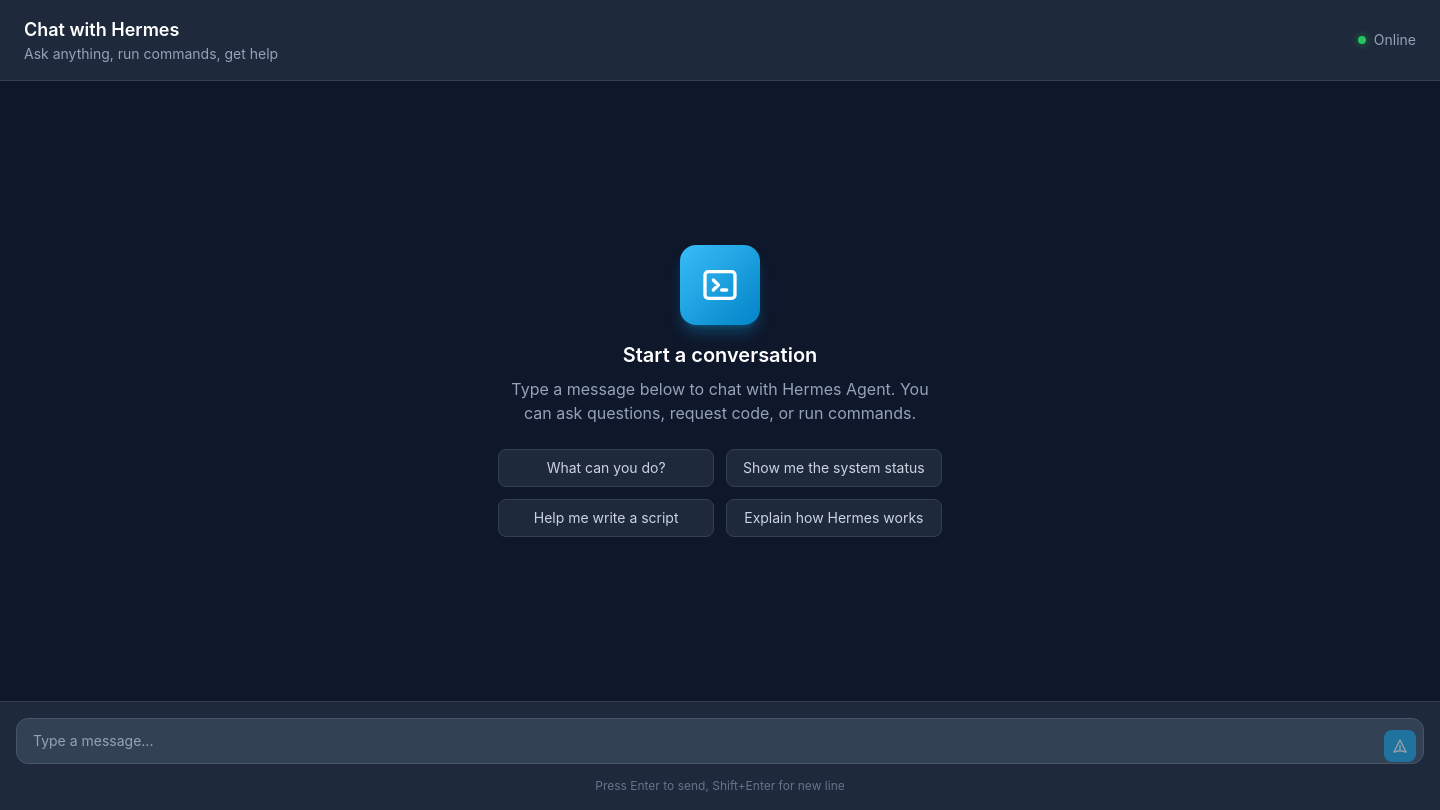
ChatView › disables send button when loading
Type "Test" into the text box with placeholder "Type a message..." at (720, 741), box [16, 718, 1424, 764]
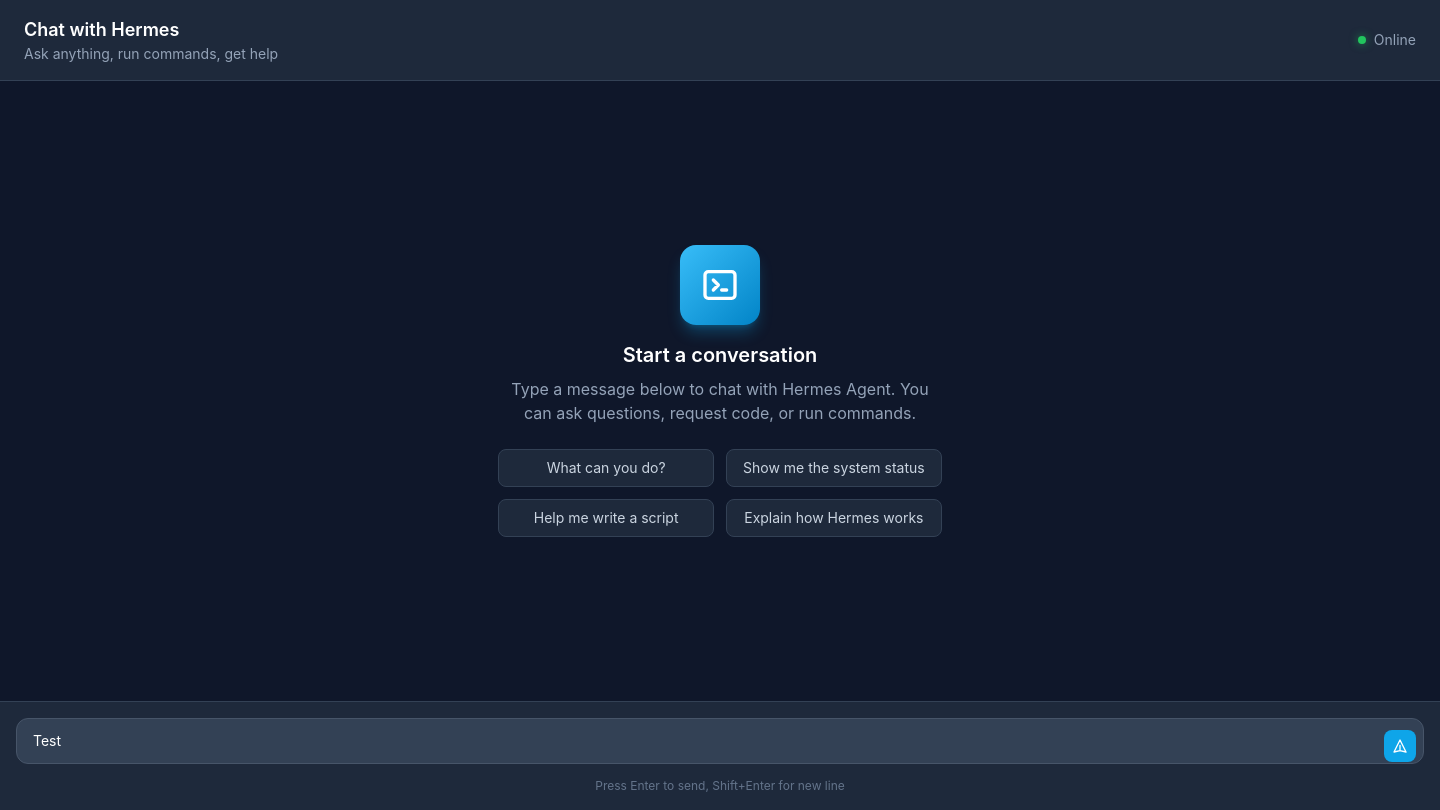
Press Enter in the text box with placeholder "Type a message...", box [16, 718, 1424, 764]
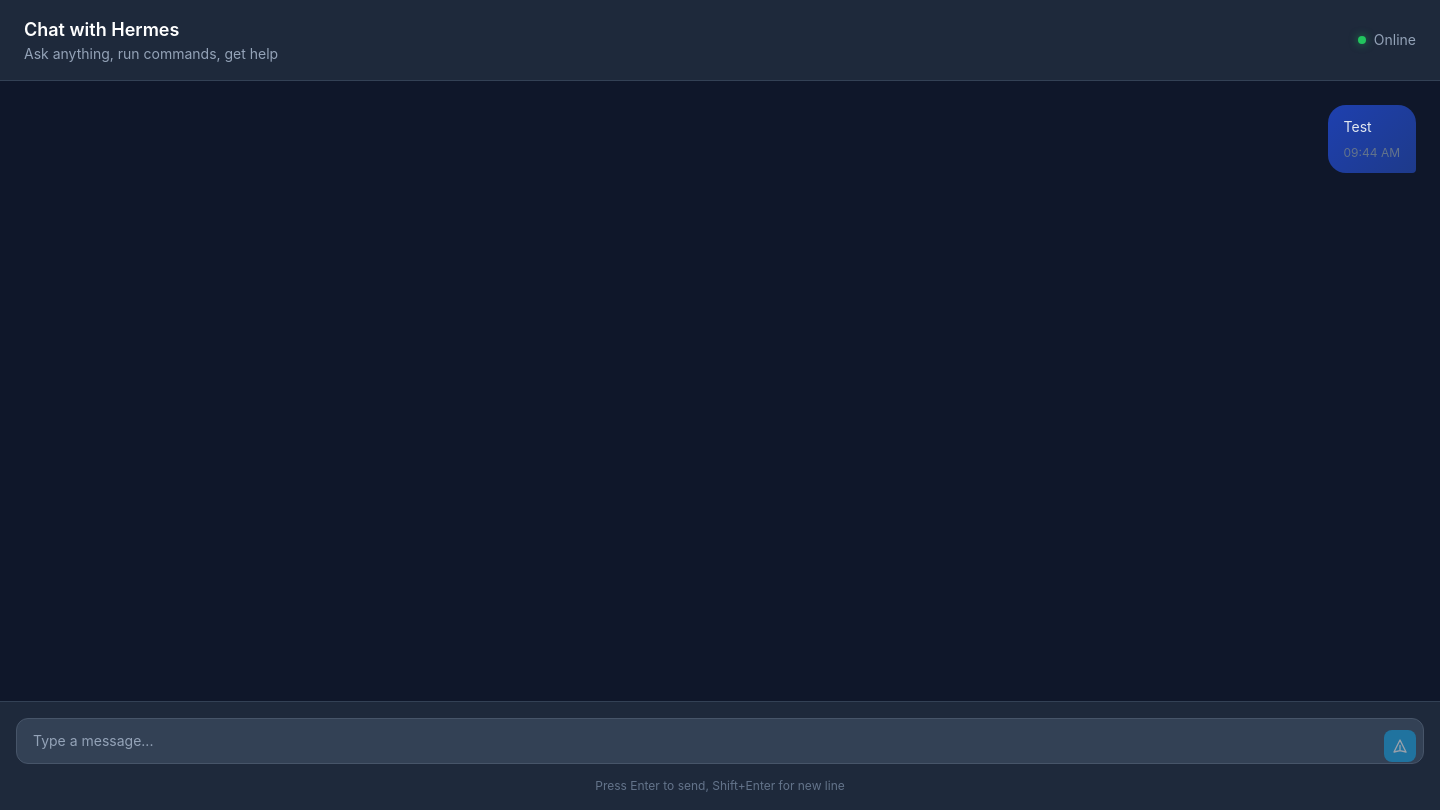
Now the button named "Send message" is disabled, box [1384, 730, 1416, 762]
